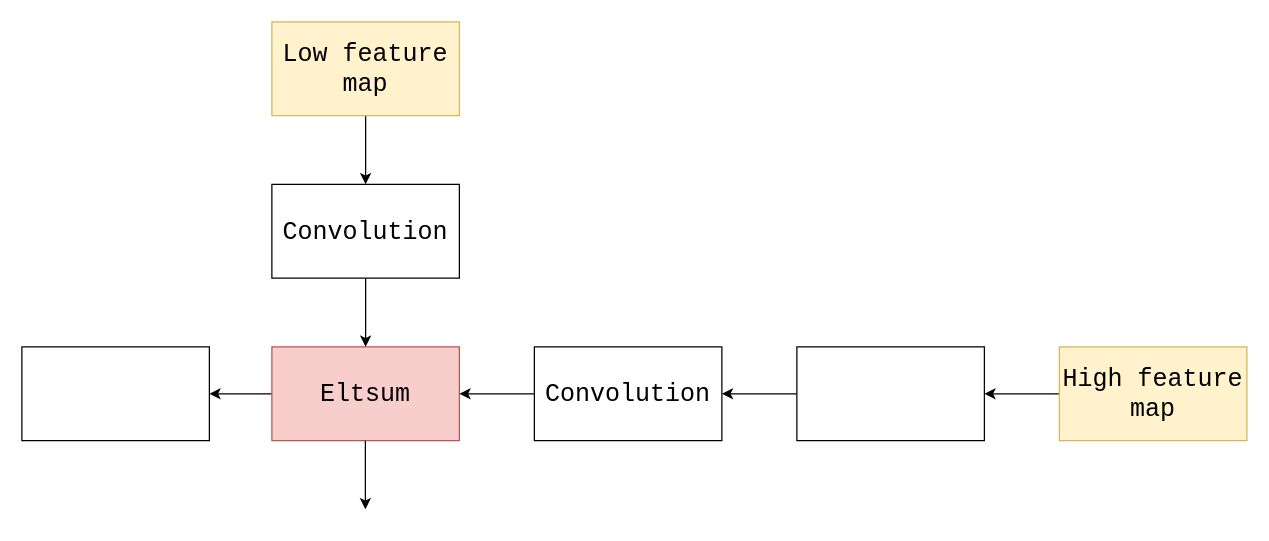
The diagram is 1269 pixels wide and 541 high, and some of its shapes have lost their labels. Each missing label, with the centre of its shape:
"Bilinear Upsample" goes at pixel 890 393.
"Relu" goes at pixel 115 393.
